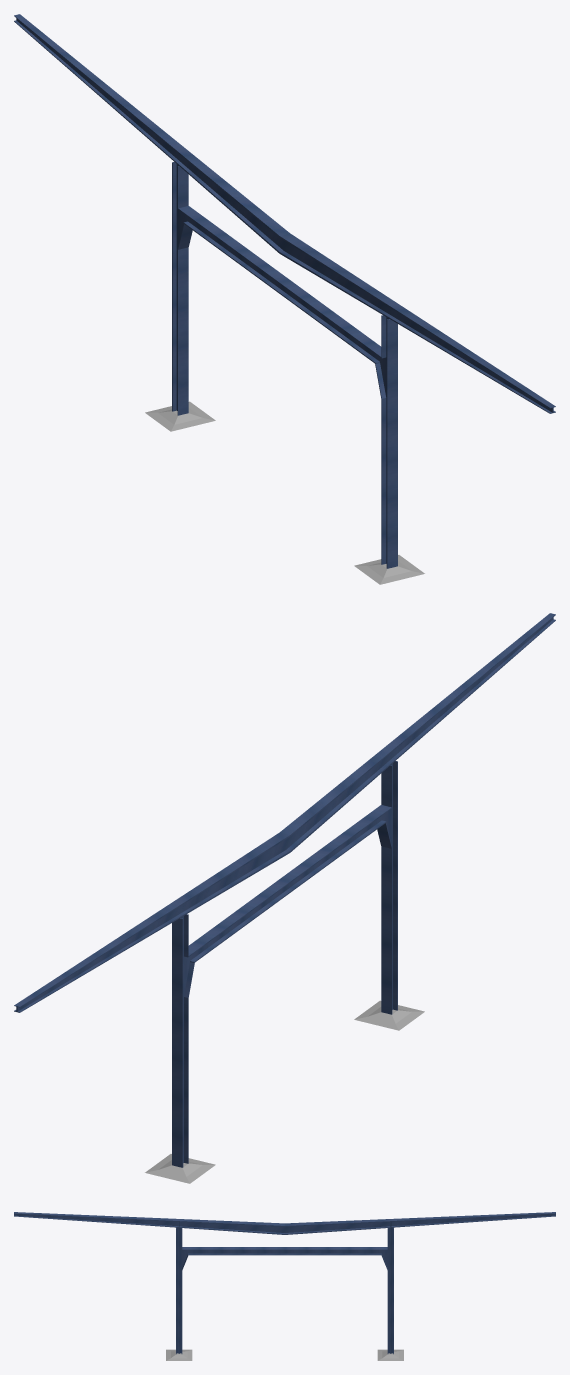
Rendered from pillar.fbx.
The picture shows the model from 3 angles, top to bottom: view 1: azimuth 30°, elevation 25°; view 2: azimuth 150°, elevation 25°; view 3: azimuth 270°, elevation 25°; orthographic projection. The views are drawn at different scales.
Parts seen in each view (by area): view 1: pillarConstruct; view 2: pillarConstruct; view 3: pillarConstruct.
Boxes of the visible parts, x1,y1,x2,y2 form: pillarConstruct: (14,14,555,584); pillarConstruct: (14,613,555,1183); pillarConstruct: (14,1212,555,1360).
Size of the model in its own units: 0.8 by 4.79 by 16.4.
Materials: 2 (1 with a texture image).
